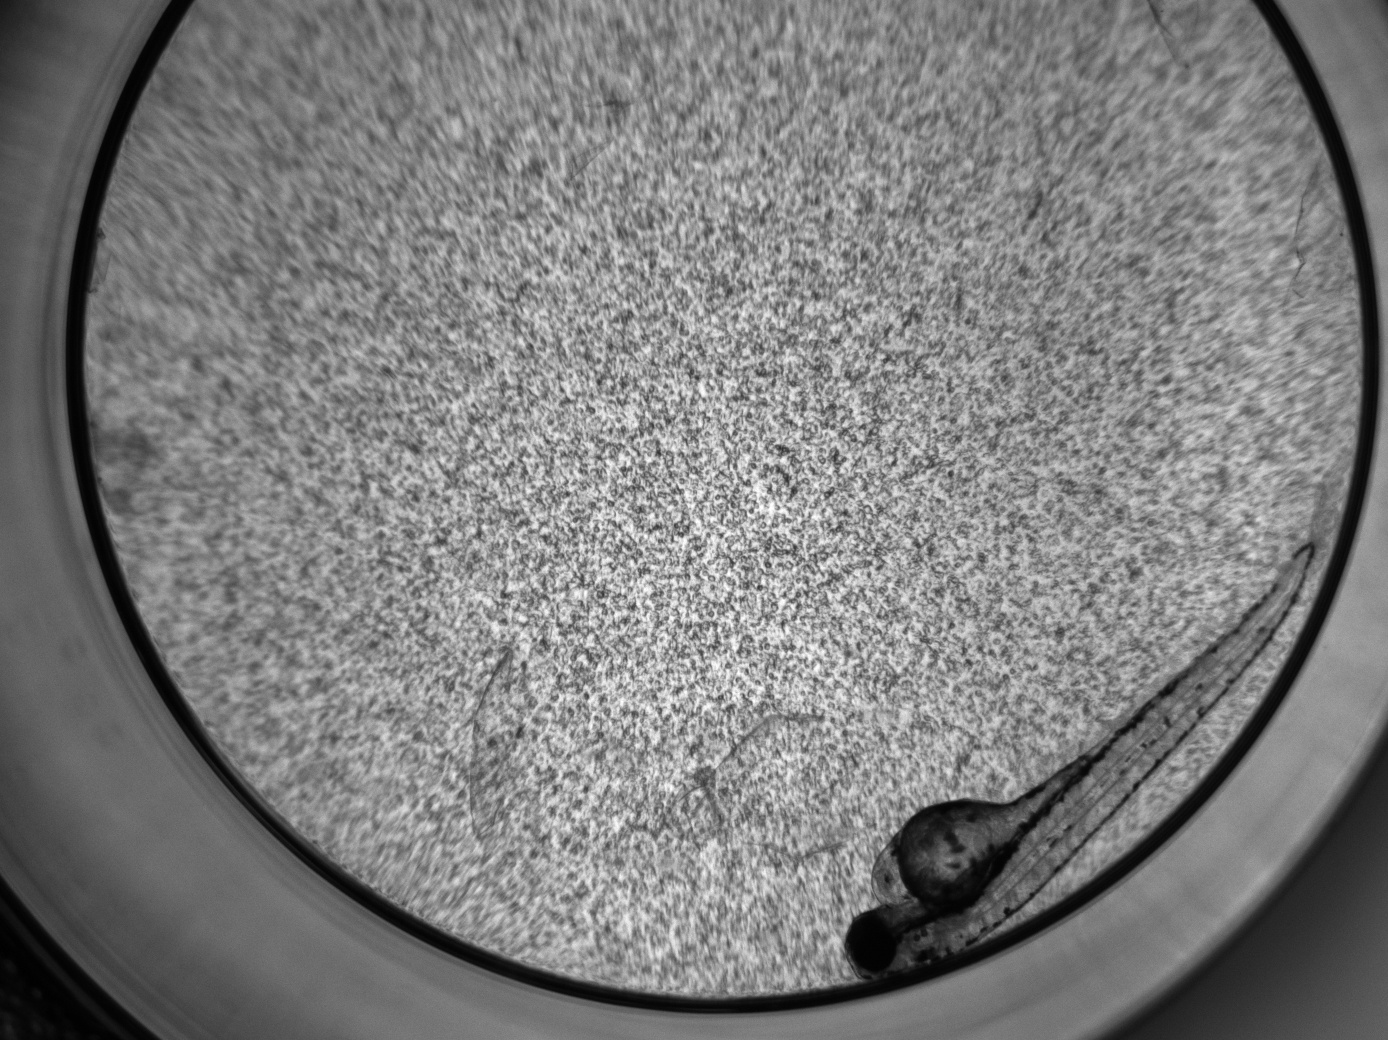embryo: (843, 536, 1317, 986)
eye: (849, 914, 895, 973)
yolksac: (871, 800, 1022, 909)
